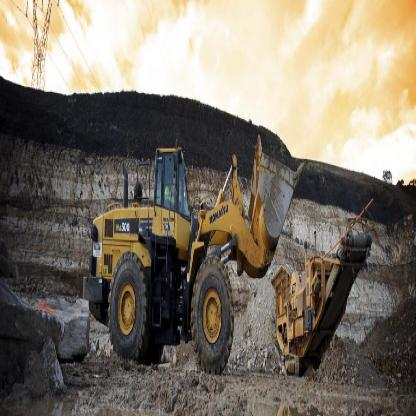bull_dozer/loader/grader: (77, 113, 304, 393)
